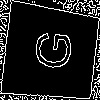G: (25, 27, 73, 73)
